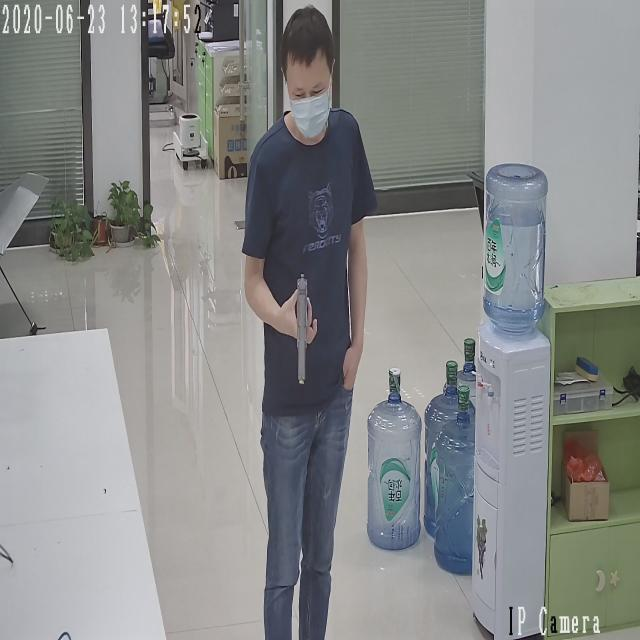gun-knife-thesis - v11 Yolov5 augmented: (284, 268, 316, 383)
